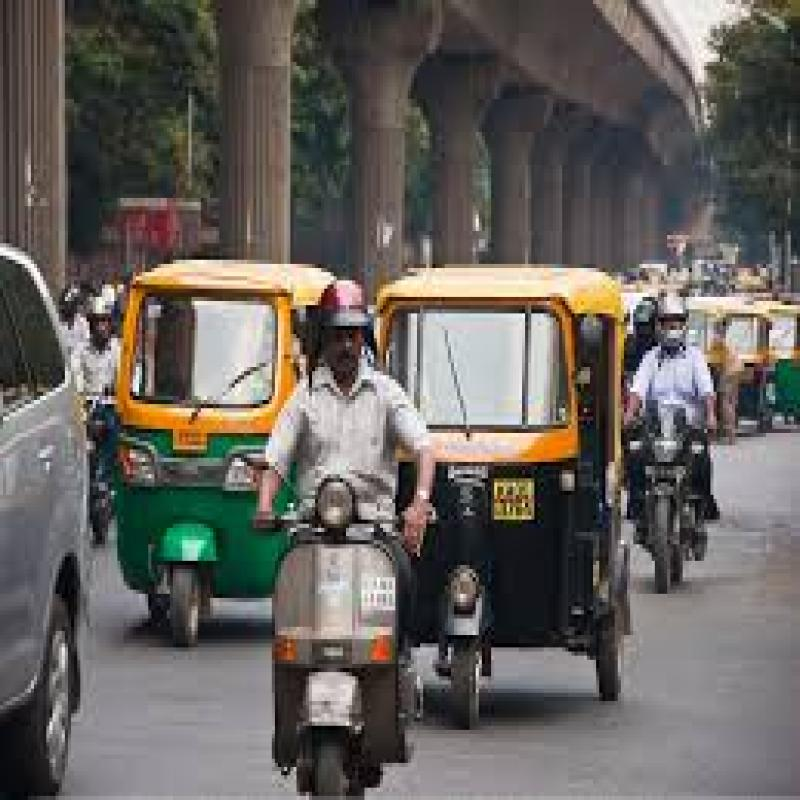auto: (369, 251, 645, 717), (102, 232, 337, 636)
bike: (269, 468, 428, 794), (615, 397, 710, 579)
